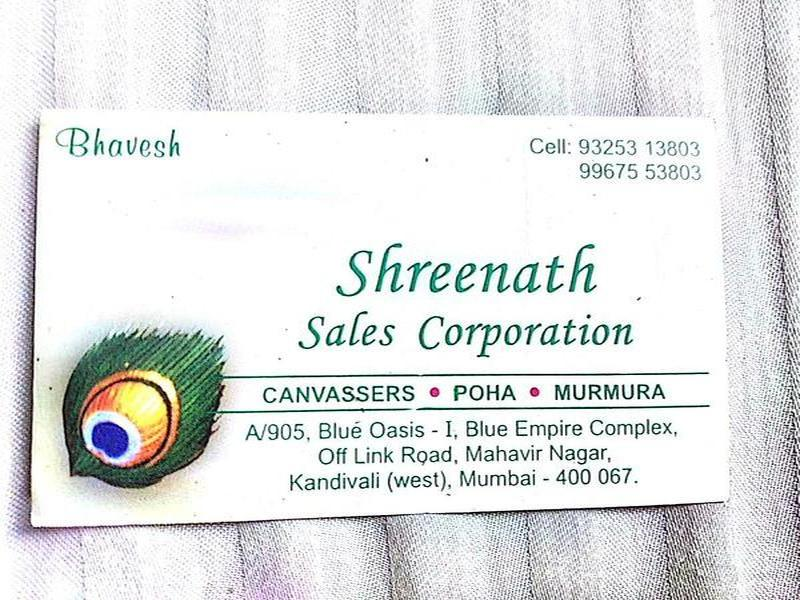card: (32, 104, 732, 523)
